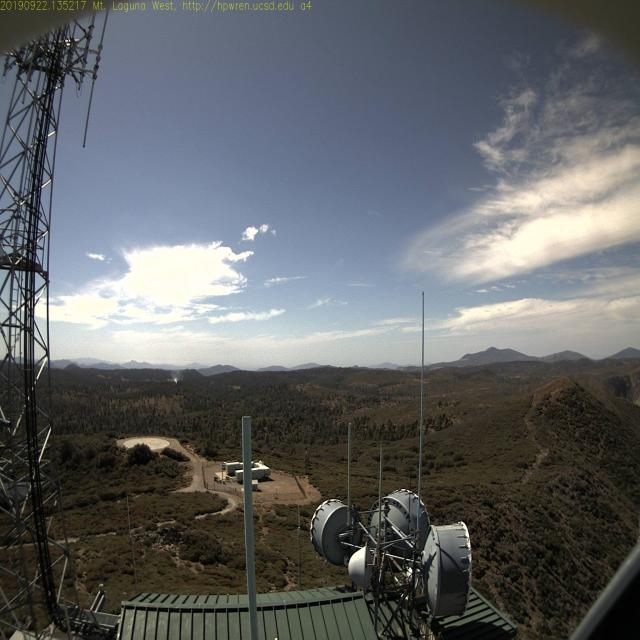smoke: (164, 360, 186, 383)
